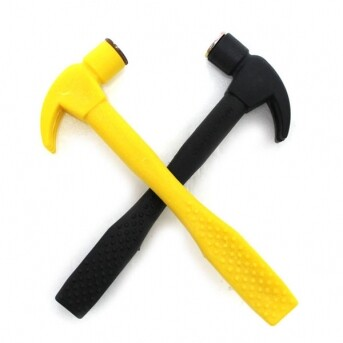hammer: (27, 13, 310, 331)
